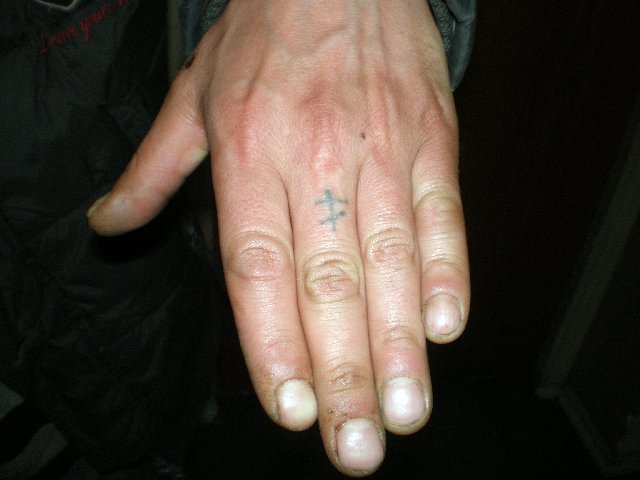tatu9_krest: (303, 188, 354, 238)
